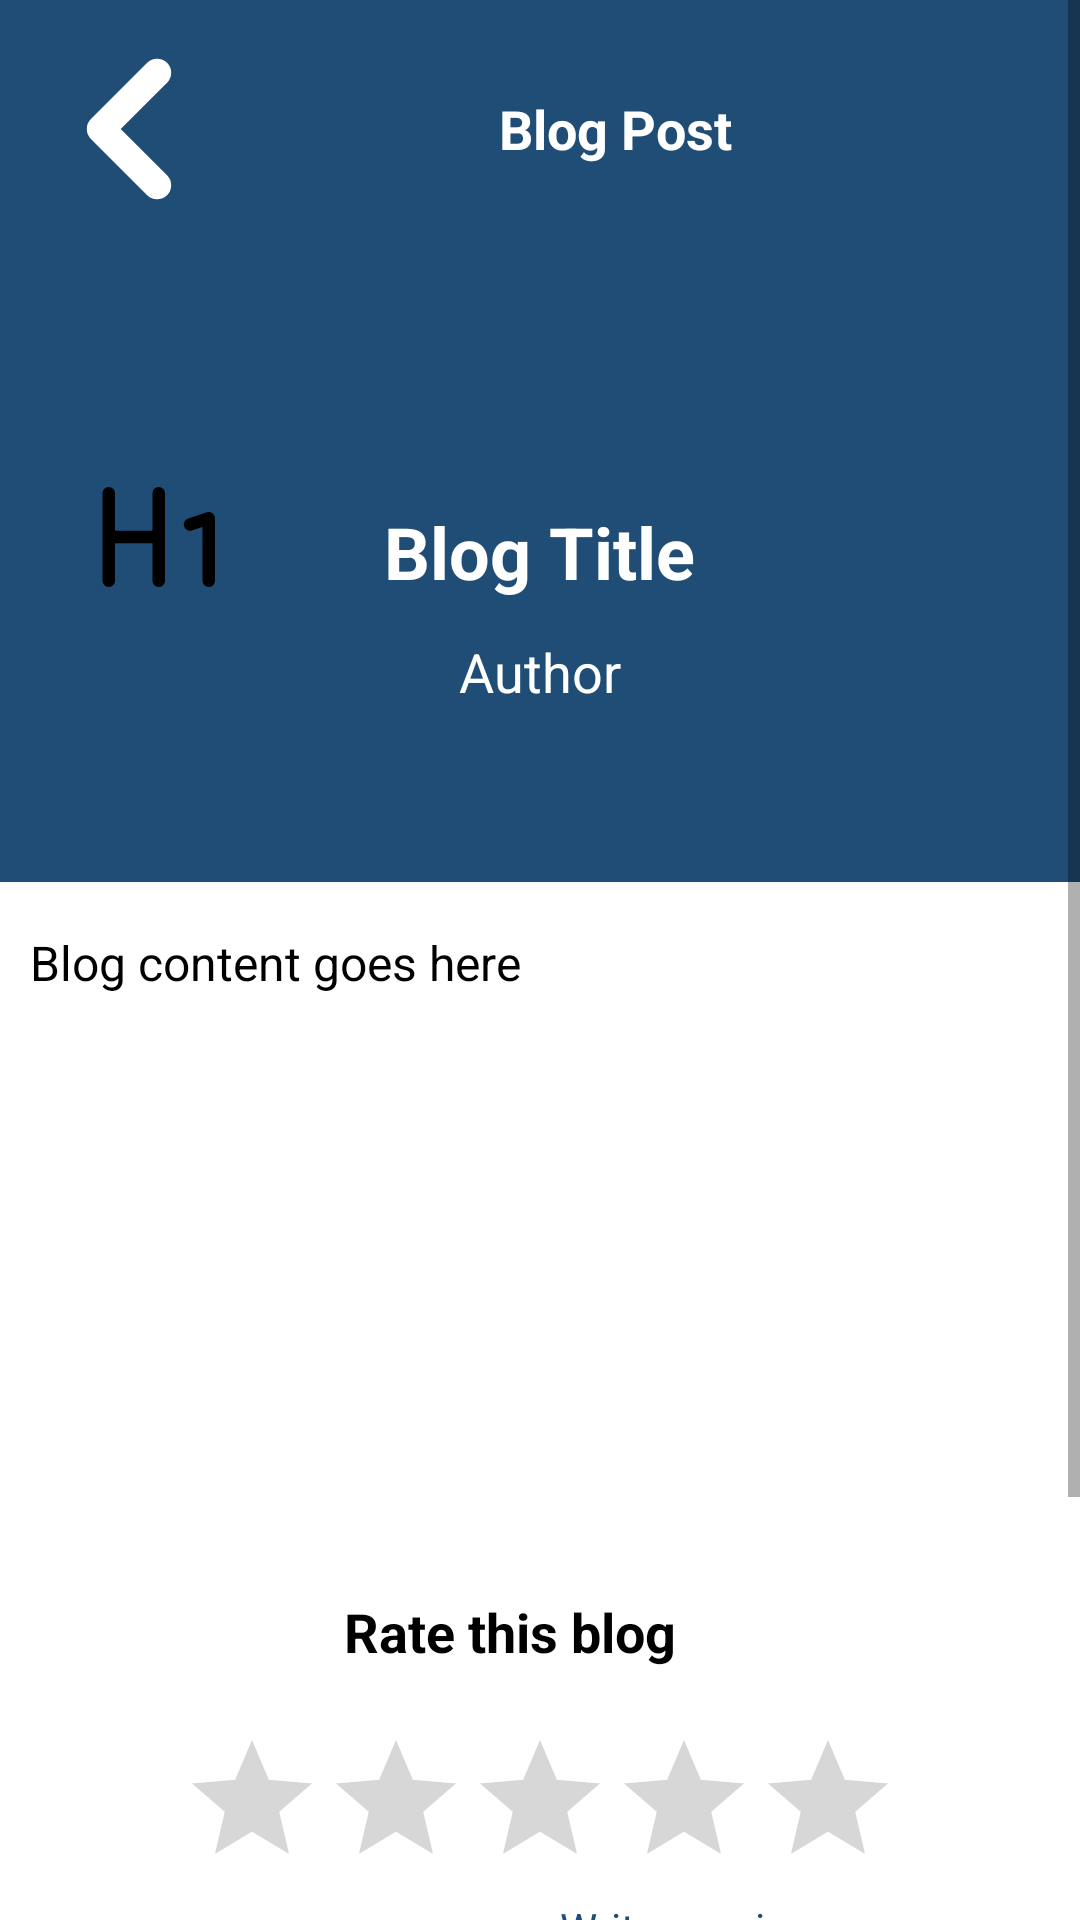

Icon click points for this 1080×1920 phone screenshot, format point (x, y):
Back: point (129, 129)
